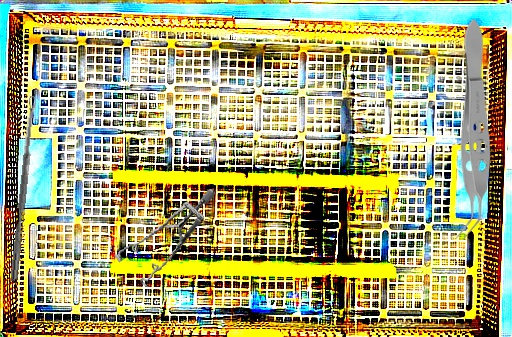Speculum: (105, 188, 230, 292)
Surgical Spoon: (10, 96, 38, 282)
Tissue Forceps: (455, 19, 491, 241)
